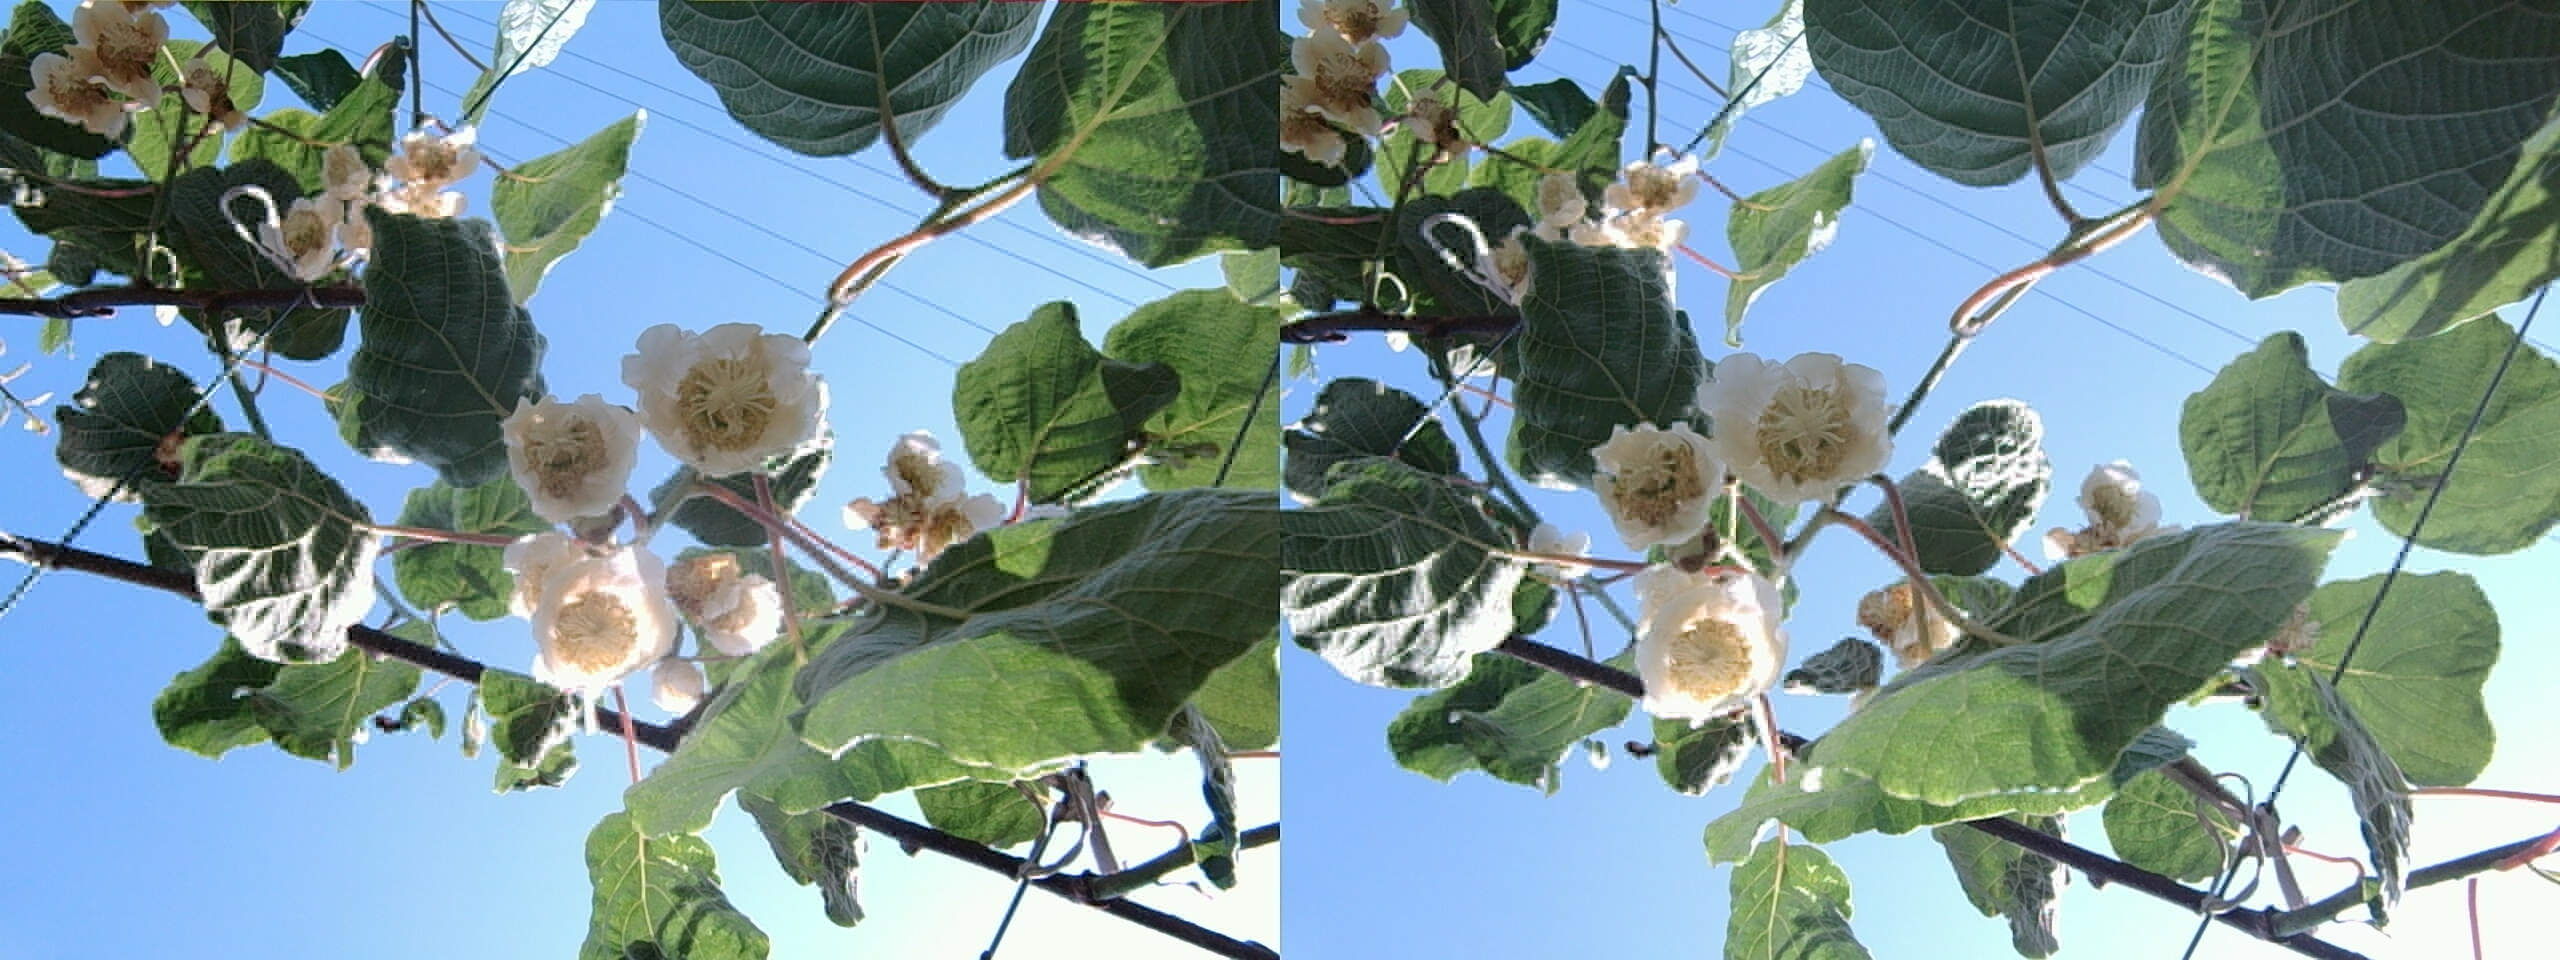flower: (612, 317, 831, 487), (1623, 558, 1788, 776), (1701, 340, 1899, 504), (513, 544, 681, 700), (838, 426, 1016, 563), (490, 385, 647, 526), (1275, 10, 1401, 180), (1579, 411, 1731, 552), (2038, 460, 2157, 562)
